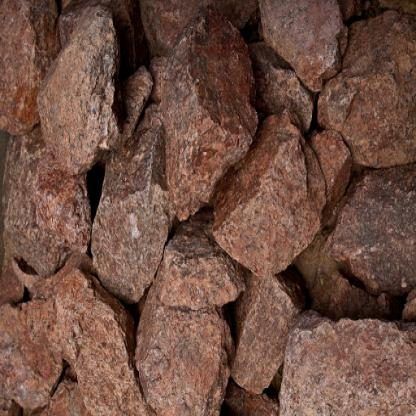Igneous_Granite: (136, 231, 243, 415), (161, 13, 254, 222), (224, 105, 332, 268), (10, 278, 122, 414), (281, 303, 415, 415), (37, 8, 123, 172), (337, 161, 415, 315), (0, 157, 101, 270)
